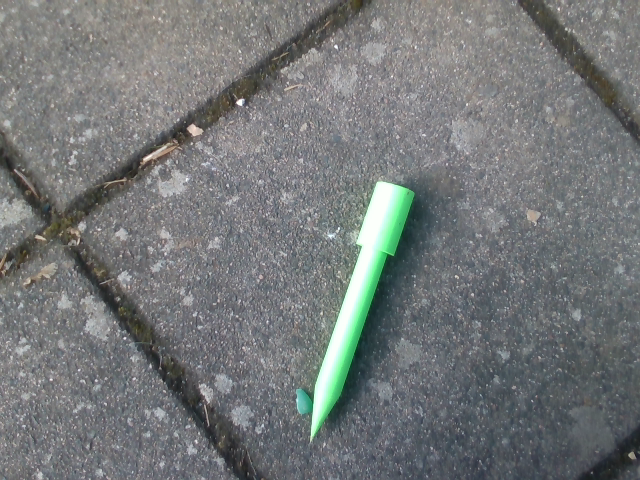Probe: (305, 177, 426, 448)
